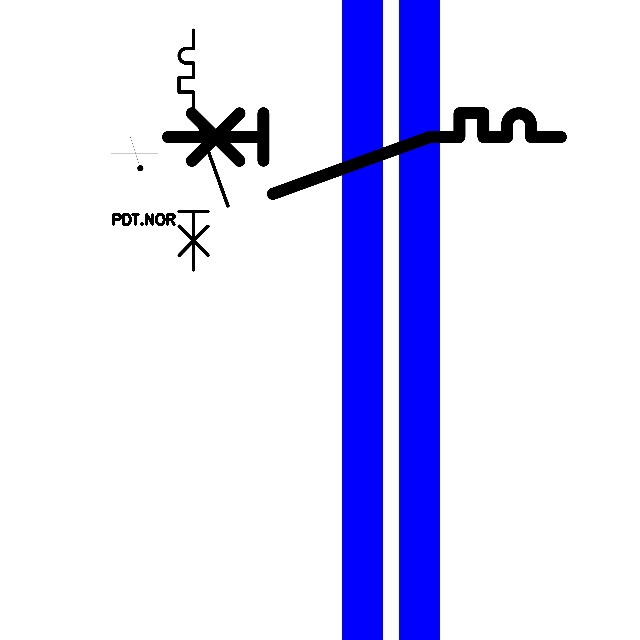interruptor_termomagnetico: (157, 103, 570, 204), (173, 24, 234, 275)
